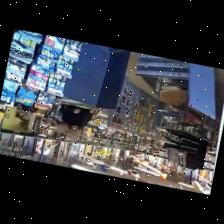person: (62, 104, 94, 140), (22, 104, 38, 118)
